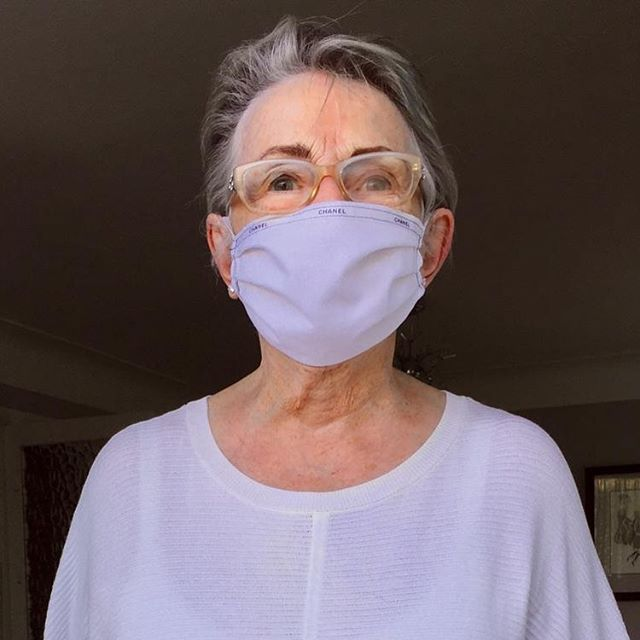homemade: (209, 196, 480, 369)
